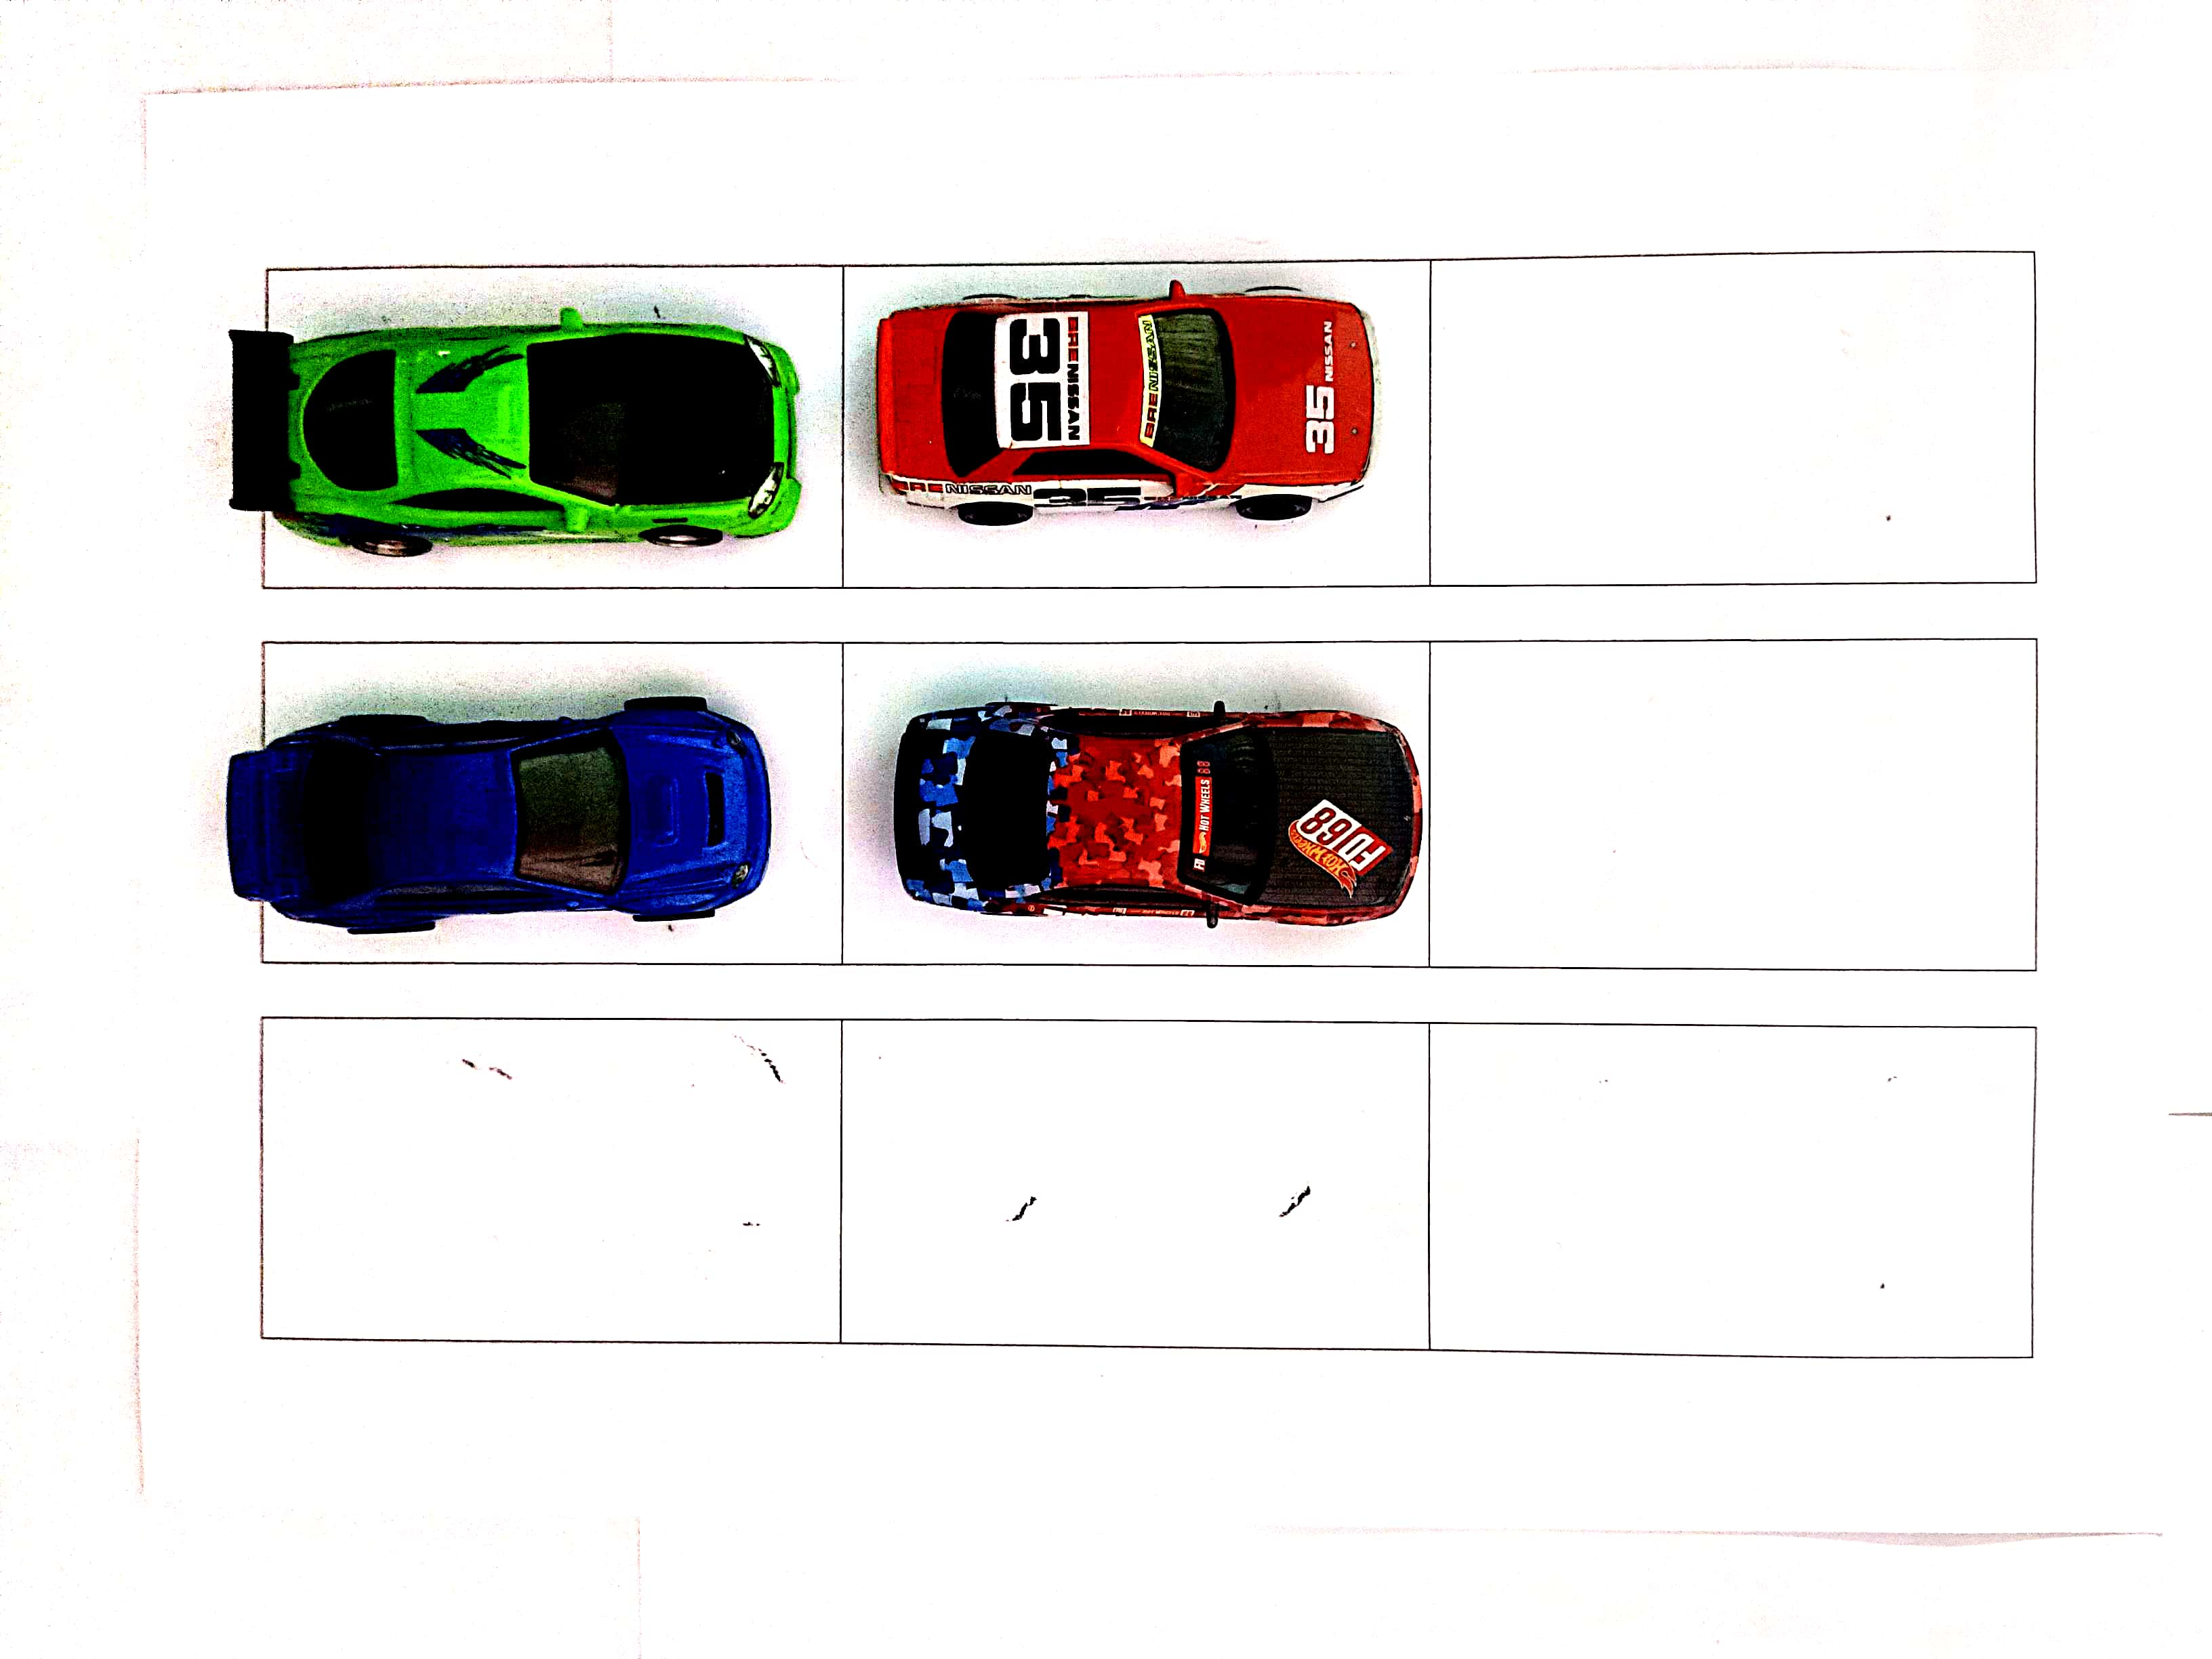Busy: (840, 261, 1432, 586), (843, 641, 1425, 967), (261, 648, 836, 967), (268, 272, 843, 584)
Free: (1433, 1026, 2029, 1354), (1432, 261, 2038, 580), (1428, 645, 2033, 958), (256, 1019, 836, 1342), (843, 1026, 1423, 1342)
